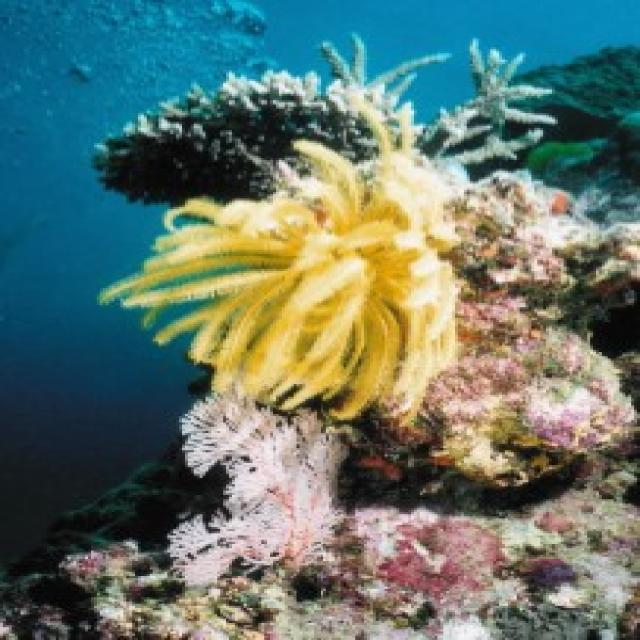Coral: (93, 139, 481, 420), (94, 70, 442, 207), (167, 389, 368, 589), (435, 32, 568, 190), (319, 32, 455, 112)
